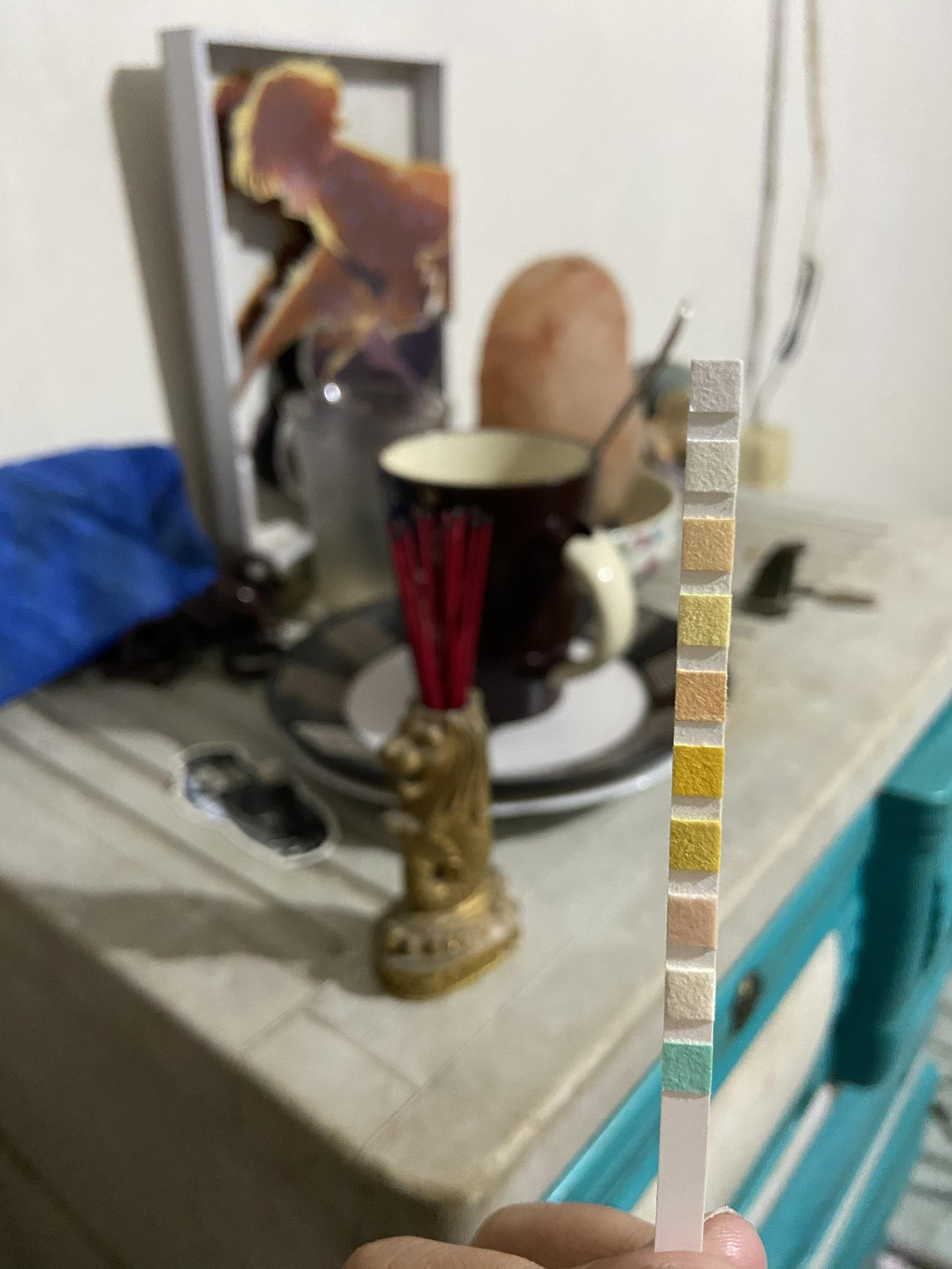Bilirubin: (667, 972, 714, 1018)
Blood: (673, 748, 722, 795)
Glucose: (663, 1045, 710, 1093)
Ketone: (668, 898, 716, 943)
Leukocytes: (691, 362, 739, 411)
Nitrite: (687, 441, 736, 491)
Protein: (680, 596, 729, 645)
SpGravity: (671, 821, 719, 868)
Urobilinogen: (684, 520, 732, 569)
pH: (676, 672, 725, 720)
strip: (654, 361, 742, 1254)
